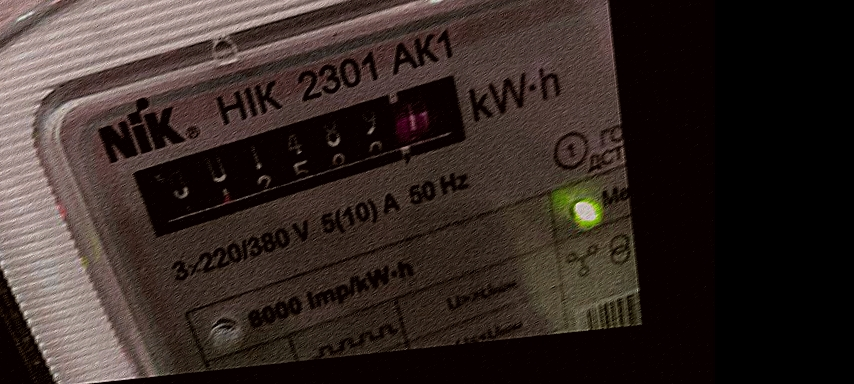0: (199, 146, 229, 185), (163, 164, 191, 202)
1: (398, 93, 421, 133), (243, 138, 266, 171)
4: (279, 124, 304, 157)
8: (318, 112, 343, 150)
9: (356, 102, 380, 136)
screen: (113, 60, 501, 250)
